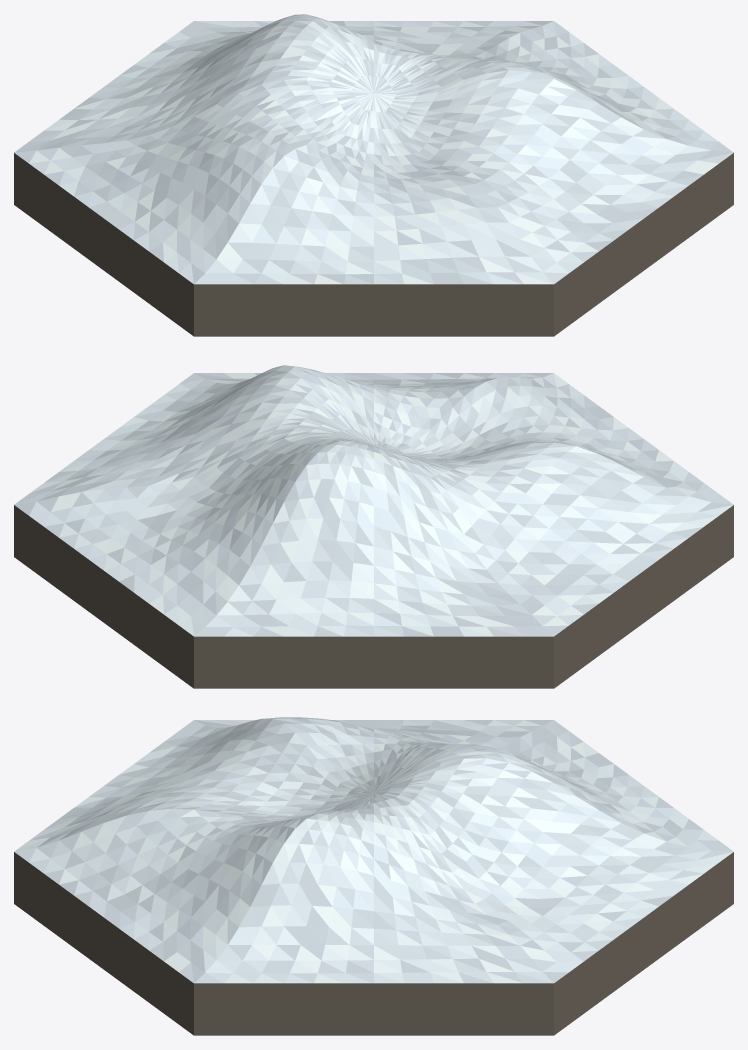
File: TERRAIN_SNOW_HILLS_v02.fbx
3 renders of one model, top to bottom at view 1: azimuth 30°, elevation 25°; view 2: azimuth 150°, elevation 25°; view 3: azimuth 270°, elevation 25°, orthographic.
Parts seen in each view (by area): view 1: TERRAIN_SNOW_HILLS_v02; view 2: TERRAIN_SNOW_HILLS_v02; view 3: TERRAIN_SNOW_HILLS_v02.
Part boxes in pixels (box(x1,y1,x2,y2)): TERRAIN_SNOW_HILLS_v02: box(14, 14, 733, 336); TERRAIN_SNOW_HILLS_v02: box(14, 365, 733, 688); TERRAIN_SNOW_HILLS_v02: box(14, 717, 733, 1035).
Size of the model in its own units: 173 by 44.76 by 200.
